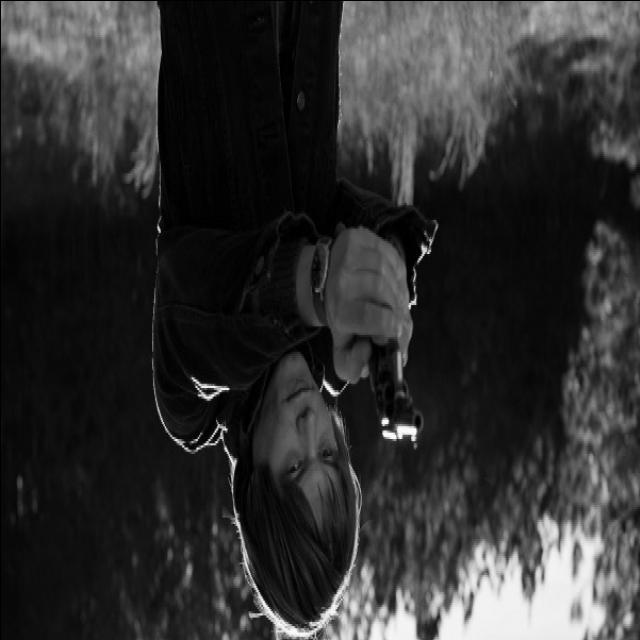weapons: (345, 310, 429, 473)
